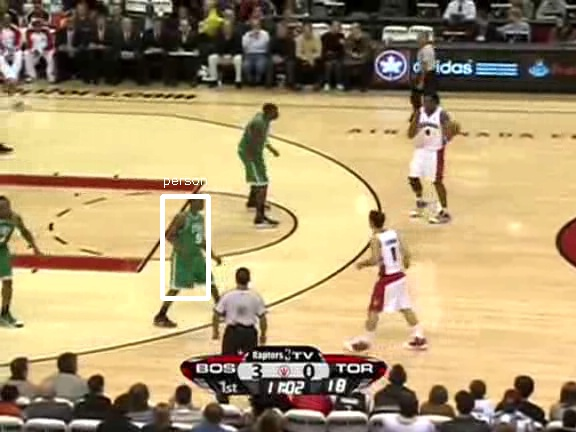person: (174, 212, 208, 293), (173, 212, 207, 293), (175, 212, 209, 293), (174, 211, 208, 292), (174, 213, 208, 294)
target_negative: (13, 210, 438, 413), (264, 22, 380, 184), (459, 175, 497, 386), (493, 176, 531, 344), (234, 274, 504, 287), (462, 363, 524, 390)
